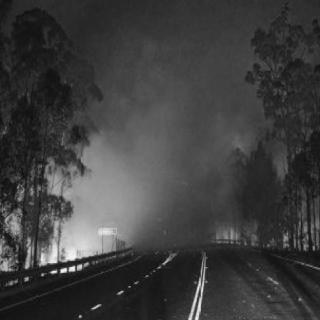Fire: (45, 241, 81, 271)
